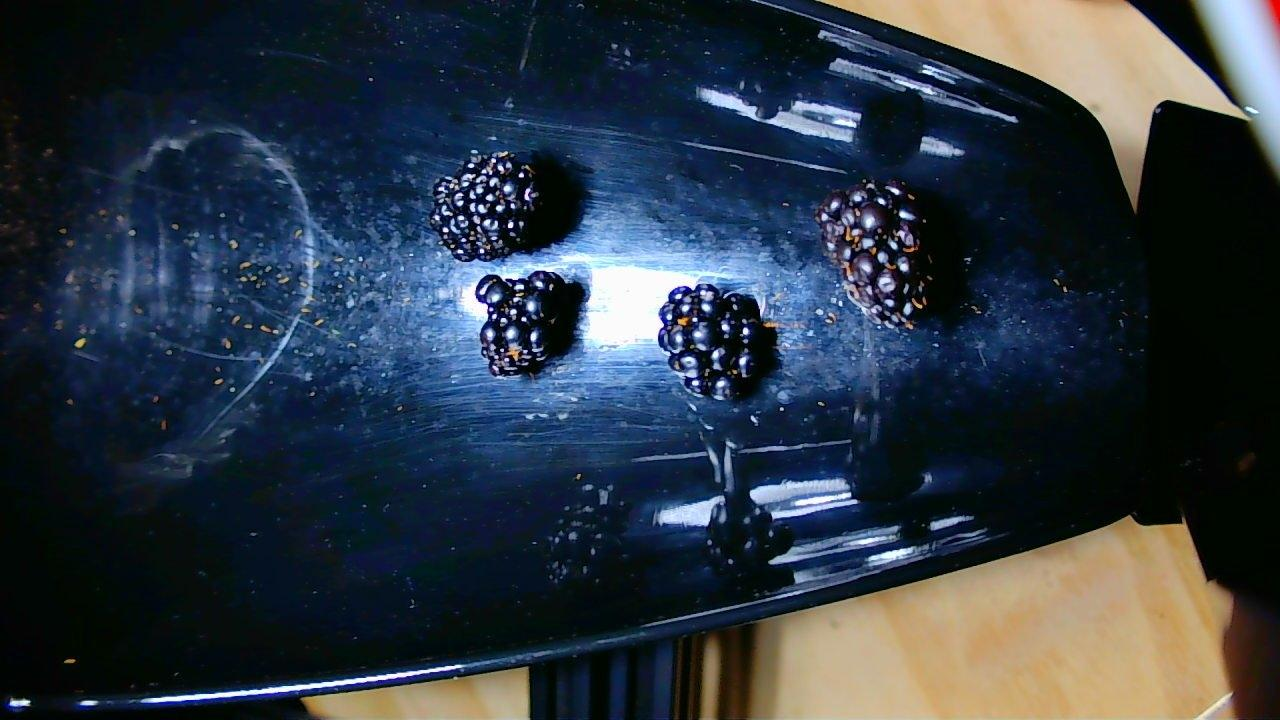berry: (820, 174, 940, 330), (427, 149, 551, 258), (658, 280, 770, 400), (476, 270, 580, 376)
